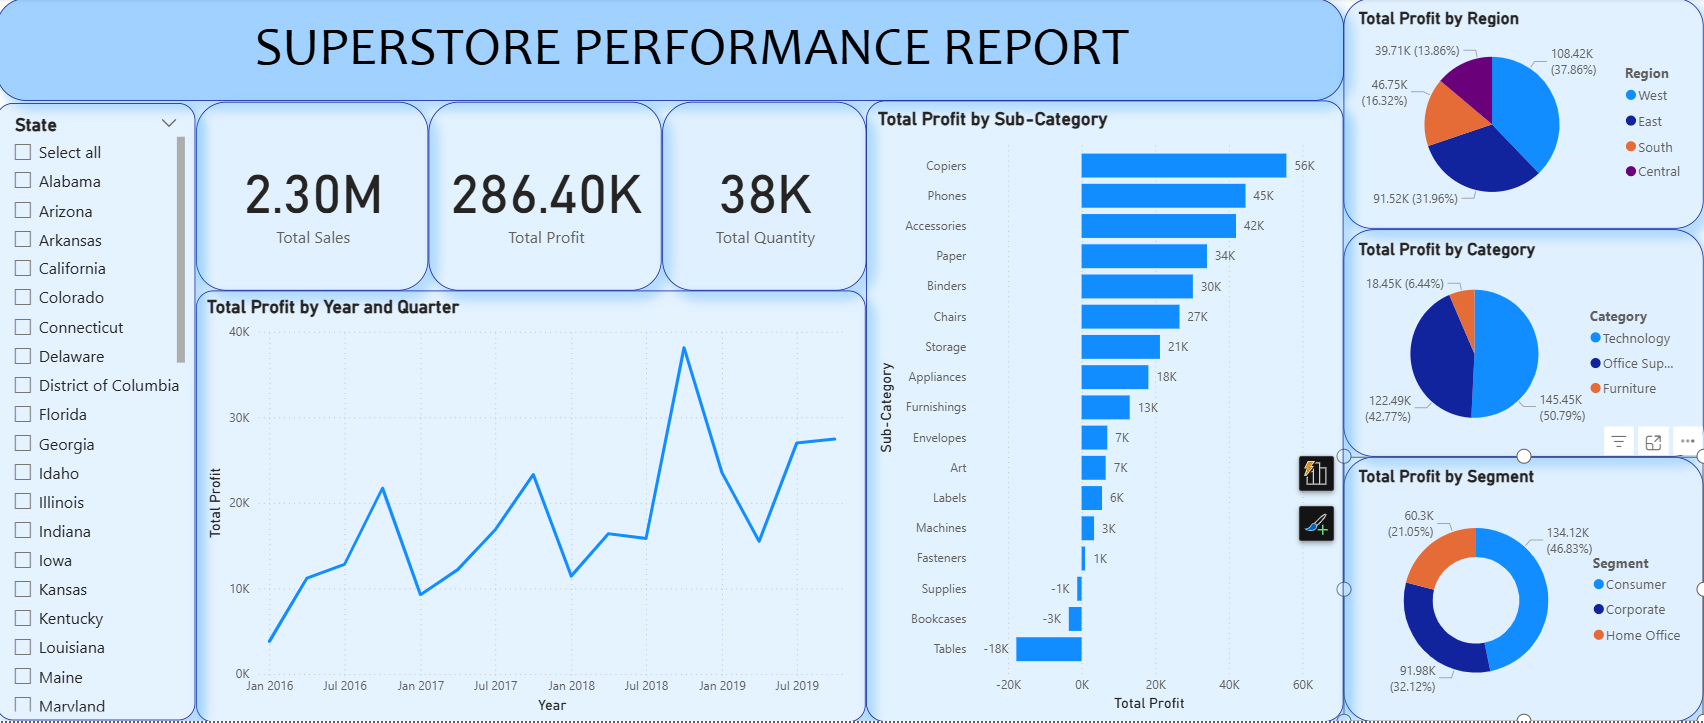

This screenshot's page, from the dashboard's own definition file:
{"tool":"powerbi","page":{"name":"Page 1","canvas":[1700,720],"ordinal":0},"visuals":[{"type":"textbox","box":[0,0,1341.4,102.7],"z":0},{"type":"card","fields":{"Values":["Sum(Orders.Sales)"]},"box":[199.3,102.7,231.1,188.3],"z":1000},{"type":"card","fields":{"Values":["Sum(Orders.Profit)"]},"box":[430.4,102.7,232.3,188.3],"z":2000},{"type":"card","fields":{"Values":["Sum(Orders.Quantity)"]},"box":[662.8,102.7,203,188.3],"z":3000},{"type":"lineChart","fields":{"Y":["Sum(Orders.Profit)"],"Category":["Orders.Order Date.Variation.Date Hierarchy.Year","Orders.Order Date.Variation.Date Hierarchy.Quarter"]},"box":[199.3,291,666.4,429.2],"z":4000},{"type":"pieChart","title":"Total Profit by Region","fields":{"Category":["Orders.Region"],"Y":["Sum(Orders.Profit)"]},"box":[1341.4,0,358.3,229.9],"z":5000},{"type":"pieChart","title":"Total Profit by Category","fields":{"Category":["Orders.Category"],"Y":["Sum(Orders.Profit)"]},"box":[1341.4,229.9,358.3,226.2],"z":6000},{"type":"donutChart","title":"Total Profit by Segment","fields":{"Category":["Orders.Segment"],"Y":["Sum(Orders.Profit)"]},"box":[1341.4,456.1,358.3,264.1],"z":7000},{"type":"barChart","fields":{"Category":["Orders.Sub-Category"],"Y":["Sum(Orders.Profit)"]},"box":[865.8,102.1,475.1,618],"z":8000},{"type":"slicer","fields":{"Values":["Orders.State"]},"box":[0,104,198.6,614.6],"z":9000}]}

Visuals, with their boxes in screenshot pixels (x1, y1, x2, y2), scaled from the page's 1700x720 canvas onto the 1704x723 screenshot:
textbox: bbox=[0, 0, 1345, 103]
card - Sum(Orders.Sales): bbox=[200, 103, 431, 292]
card - Sum(Orders.Profit): bbox=[431, 103, 664, 292]
card - Sum(Orders.Quantity): bbox=[664, 103, 868, 292]
lineChart - Sum(Orders.Profit) x Orders.Order Date.Variation.Date Hierarchy.Year: bbox=[200, 292, 868, 722]
"Total Profit by Region" pieChart: bbox=[1345, 0, 1703, 231]
"Total Profit by Category" pieChart: bbox=[1345, 231, 1703, 458]
"Total Profit by Segment" donutChart: bbox=[1345, 458, 1703, 722]
barChart - Orders.Sub-Category x Sum(Orders.Profit): bbox=[868, 103, 1344, 722]
slicer - Orders.State: bbox=[0, 104, 199, 722]
